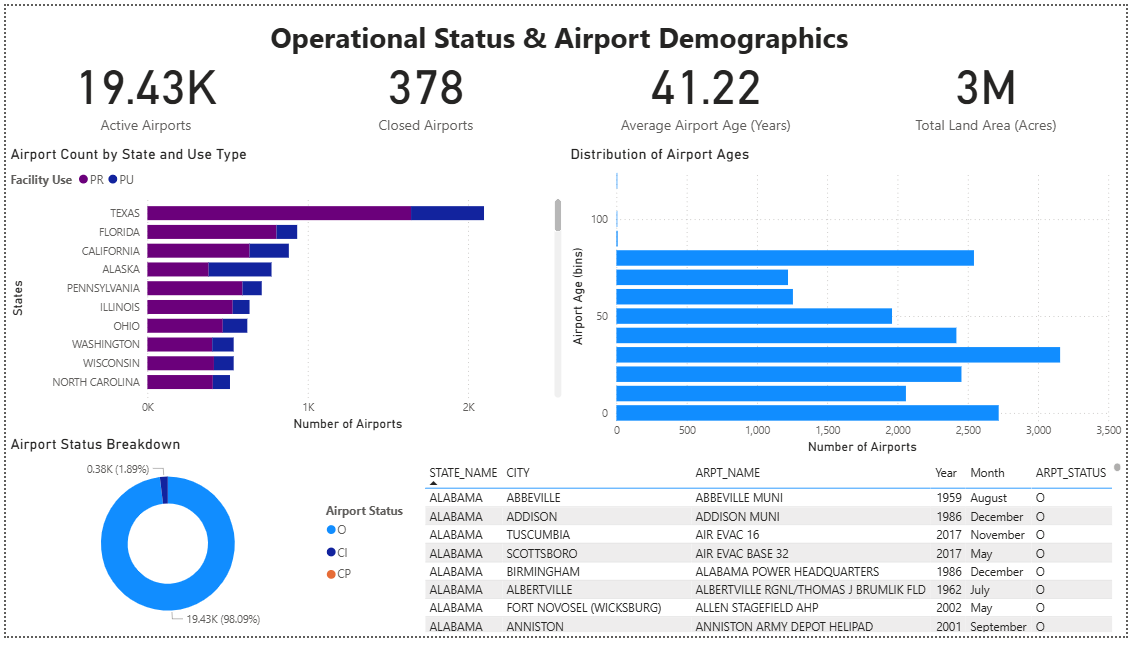

What the dashboard file says about the page in this screenshot:
{"tool":"powerbi","page":{"name":"Page 2","canvas":[1280,720],"ordinal":1},"visuals":[{"type":"card","fields":{"Values":["aviation_facilities_ready.ARPT_ID"]},"box":[0,35,320,123.3],"z":0},{"type":"card","fields":{"Values":["aviation_facilities_ready.ACREAGE"]},"box":[960,35,320,123.3],"z":1000},{"type":"card","fields":{"Values":["aviation_facilities_ready.ARPT_ID"]},"box":[320,35,320,123.3],"z":2000},{"type":"card","fields":{"Values":["aviation_facilities_ready.Airport Age"]},"box":[640,35,320,123.3],"z":3000},{"type":"donutChart","title":"Airport Status Breakdown","fields":{"Category":["aviation_facilities_ready.ARPT_STATUS"],"Y":["aviation_facilities_ready.ARPT_ID"]},"box":[0,490,473.3,230],"z":4000},{"type":"barChart","title":"Airport Count by State and Use Type","fields":{"Category":["aviation_facilities_ready.STATE_NAME"],"Y":["aviation_facilities_ready.ARPT_ID"],"Series":["aviation_facilities_ready.FACILITY_USE_CODE"]},"box":[0,158.3,640,331.7],"z":5000},{"type":"tableEx","fields":{"Values":["aviation_facilities_ready.STATE_NAME","aviation_facilities_ready.CITY","aviation_facilities_ready.ARPT_NAME","aviation_facilities_ready.ACTIVATION_DATE.Variation.Date Hierarchy.Year","aviation_facilities_ready.ACTIVATION_DATE.Variation.Date Hierarchy.Month","aviation_facilities_ready.ARPT_STATUS"]},"box":[473.3,516.7,806.7,203.3],"z":6000},{"type":"clusteredBarChart","title":"Distribution of Airport Ages","fields":{"Category":["aviation_facilities_ready.Airport Age (bins)"],"Y":["aviation_facilities_ready.ARPT_ID"]},"box":[640,158.3,640,358.3],"z":7000},{"type":"textbox","box":[296.7,8.3,686.7,53.3],"z":7001}]}

Visuals, with their boxes in screenshot pixels (x1, y1, x2, y2), scaled from the page's 1280x720 canvas onto the 1134x645 screenshot:
card - aviation_facilities_ready.ARPT_ID: BBox(0, 31, 284, 142)
card - aviation_facilities_ready.ACREAGE: BBox(850, 31, 1133, 142)
card - aviation_facilities_ready.ARPT_ID: BBox(284, 31, 567, 142)
card - aviation_facilities_ready.Airport Age: BBox(567, 31, 850, 142)
"Airport Status Breakdown" donutChart: BBox(0, 439, 419, 644)
"Airport Count by State and Use Type" barChart: BBox(0, 142, 567, 439)
tableEx - aviation_facilities_ready.STATE_NAME x aviation_facilities_ready.CITY: BBox(419, 463, 1133, 644)
"Distribution of Airport Ages" clusteredBarChart: BBox(567, 142, 1133, 463)
textbox: BBox(263, 7, 871, 55)
